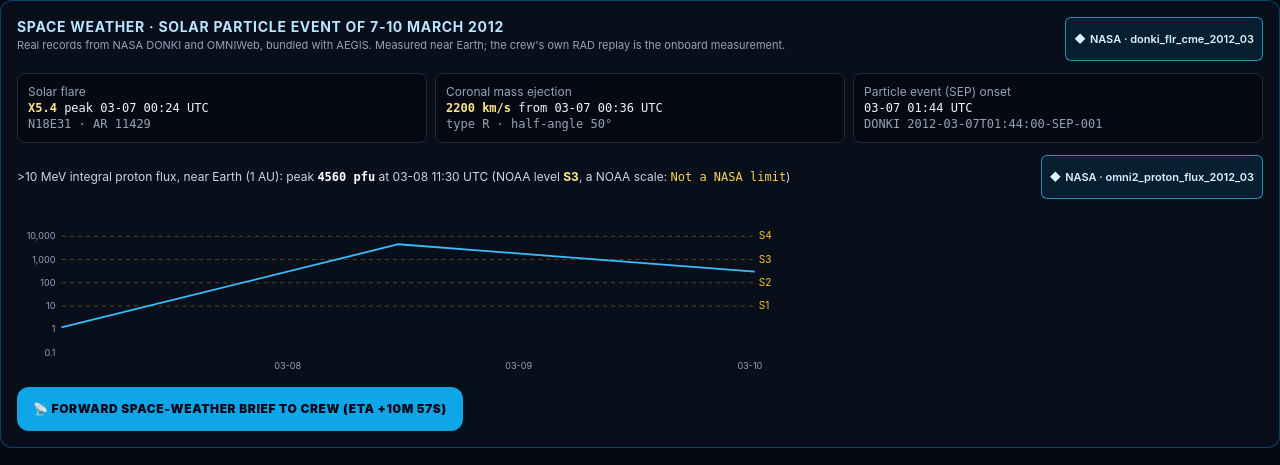
Scenario: R-5 space-weather card › forwards the brief through the link (button >= 44 px) and says so
The image size is (1280, 465).
Click the button with test id "spaceweather-forward-btn": (240, 409) x1=17 y1=387 x2=463 y2=431
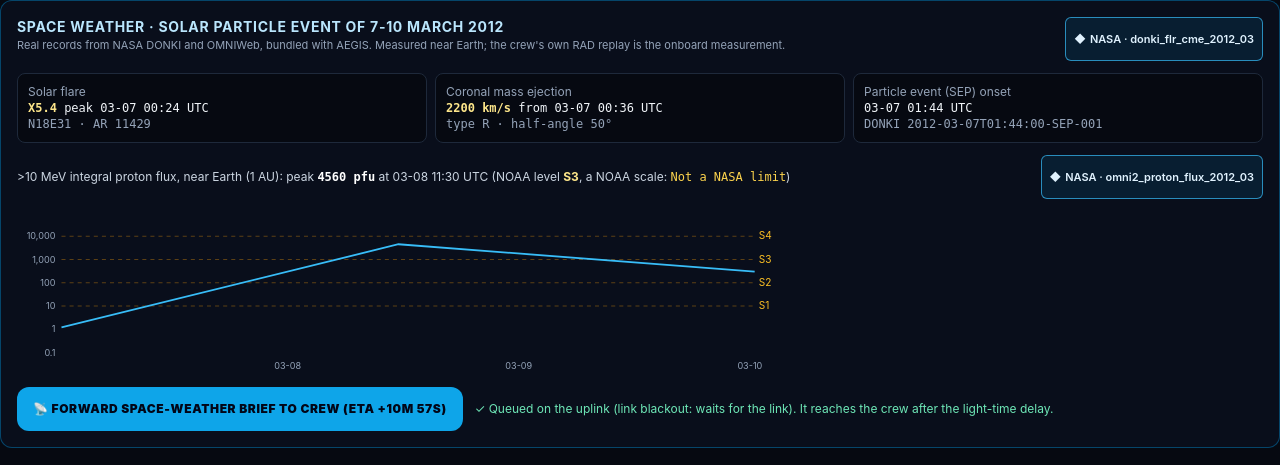
Expected: the text with test id "spaceweather-forward-status" shows "waits for the link", x1=610 y1=401 x2=793 y2=416
